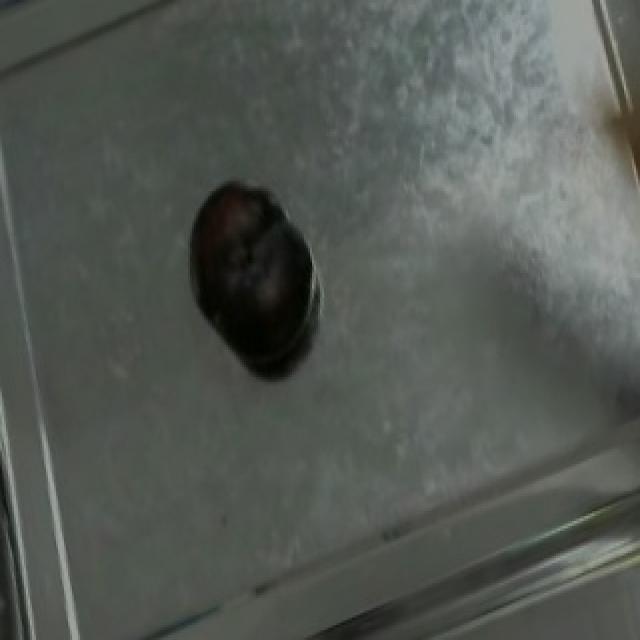Fruit: (174, 171, 320, 375)
